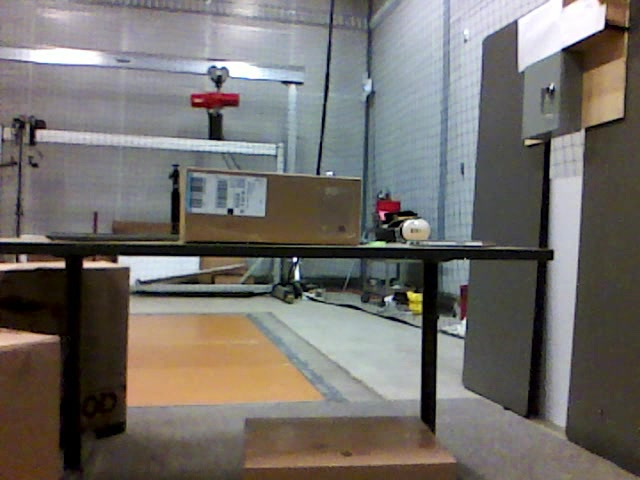box: (1, 264, 126, 427), (243, 416, 459, 480), (181, 170, 362, 242), (1, 328, 63, 480)
